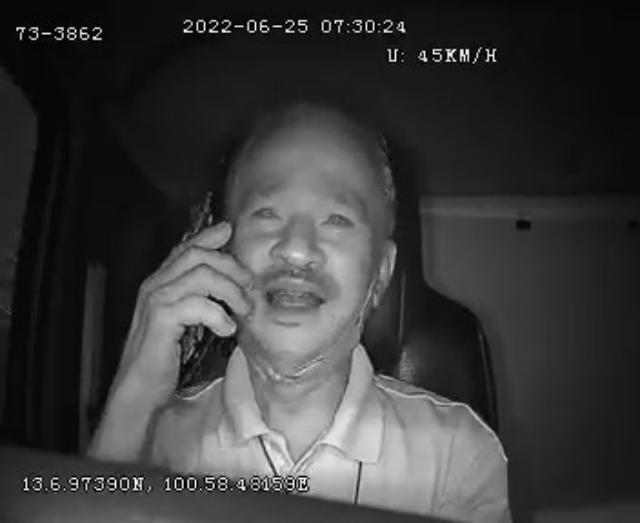PhoneUse: (173, 185, 225, 386)
SafeDriving: (313, 193, 362, 241), (244, 189, 288, 232)
